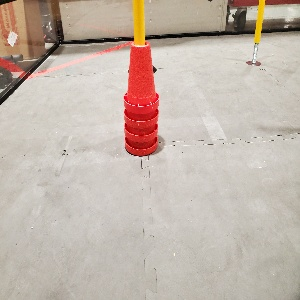Red_4: (124, 40, 158, 156)
